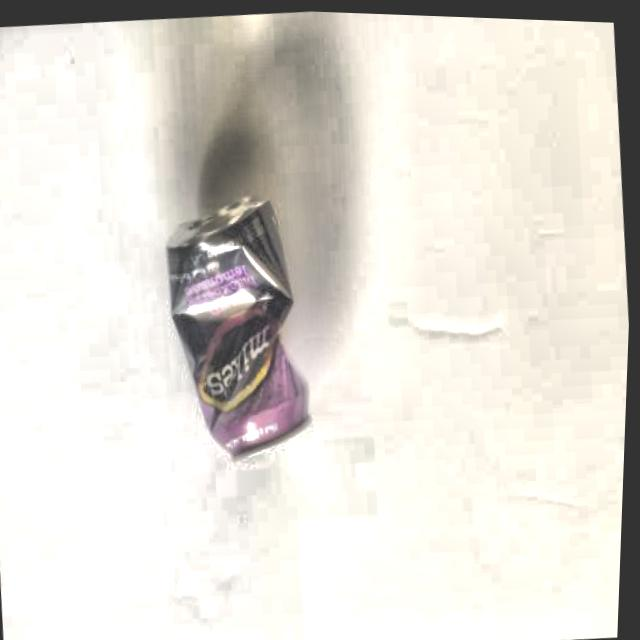Cans: (155, 191, 321, 463)
